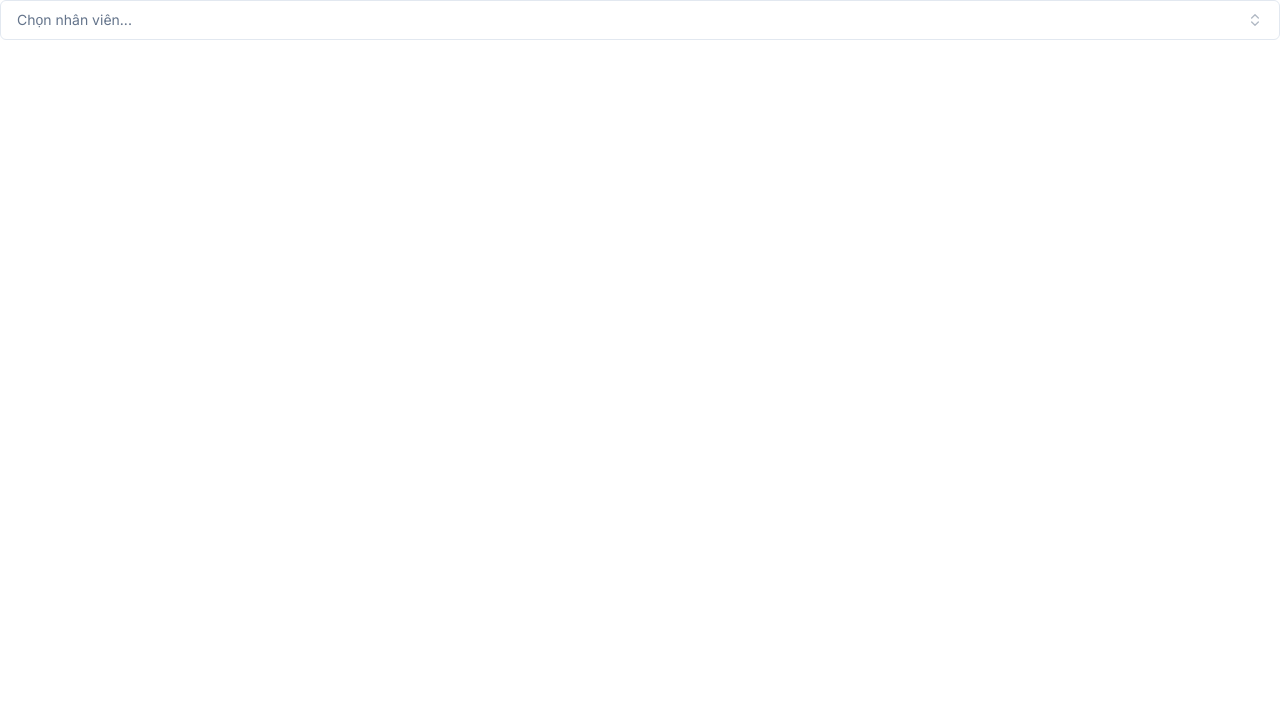
Test: EmployeeCombobox › lists all employees with Vietnamese role labels, not raw slug
This screenshot has width=1280, height=720.
Click the dropdown: click(74, 20) [0,0,1279,40]
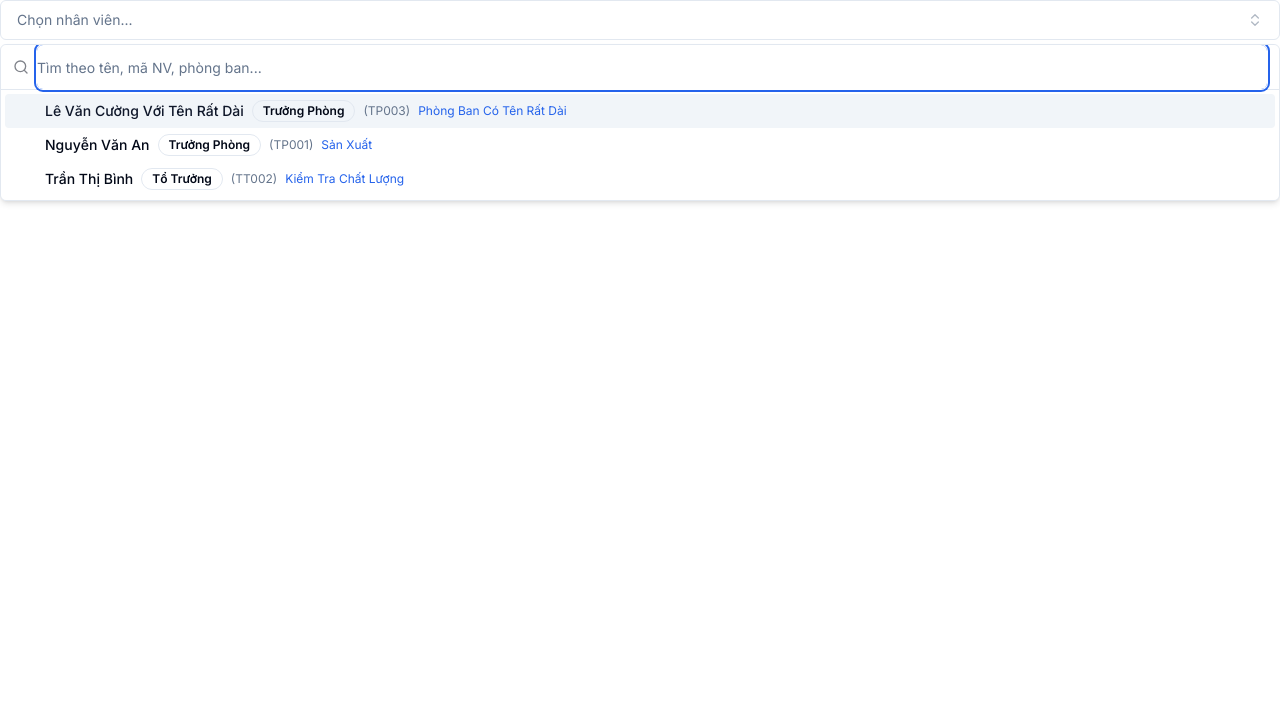
Expected: the text "Nguyễn Văn An" is shown, [45,135,150,155]
Expected: the text "Trưởng Phòng" is shown 2 times, [252,100,355,122]; [158,134,261,156]
Expected: the text "Tổ Trưởng" is shown, [141,168,223,190]
